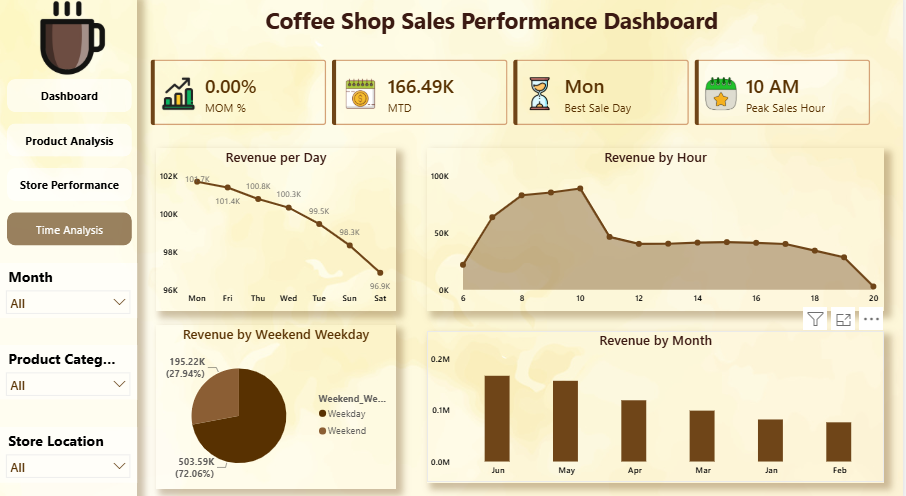

The dashboard page shown, as its layout file describes it:
{"tool":"powerbi","page":{"name":"Time Analysis","canvas":[1280,720],"ordinal":3},"visuals":[{"type":"cardVisual","fields":{"Data":["Date Table.MOM %","Date Table.MTD","Date Table.Best Sale Day","Date Table.Peak Sales Hour"]},"box":[209.8,87.9,1033.2,103.5],"z":0},{"type":"image","box":[22.7,0,148.8,121.9],"z":1000},{"type":"textbox","box":[372.8,9.9,680.3,68],"z":2000},{"type":"shape","box":[0,0,195.6,720],"z":3000},{"type":"pieChart","title":"Revenue by Weekend Weekday","fields":{"Y":["Transactions.Total_Revenue"],"Category":["Date Table.Weekend_Weekday"]},"box":[222.5,469.1,340.2,232.4],"z":4000},{"type":"lineChart","title":" Revenue per Day ","fields":{"Category":["Date Table.Day_Name"],"Y":["Transactions.Total_Revenue"]},"box":[222.5,218.3,340.2,231],"z":5000},{"type":"slicer","fields":{"Values":["ProductTable.product_category"]},"box":[0,497.5,195.6,76.5],"z":6000},{"type":"slicer","fields":{"Values":["Date Table.Month_Name"]},"box":[0,381.3,195.6,78],"z":7000},{"type":"slicer","fields":{"Values":["Storetable.store_location"]},"box":[0,613.7,195.6,79.4],"z":8000},{"type":"areaChart","title":" Revenue by Hour","fields":{"Category":["Transactions.Hour1"],"Y":["Transactions.Total_Revenue"]},"box":[606.6,218.3,647.7,231],"z":9000},{"type":"ribbonChart","title":" Revenue by Month","fields":{"Y":["Transactions.Total_Revenue"],"Category":["Date Table.Month_Name"]},"box":[606.4,477.1,648.4,215],"z":10000},{"type":"pageNavigator","box":[11.3,120.5,177.2,239.5],"z":11000}]}

Visuals, with their boxes on the page's 1280x720 design canvas (x1, y1, x2, y2). These are canvas units, not pixel positions in the 906x496 screenshot, which may show the page scaled, cropped or inside an application window:
cardVisual - Date Table.MOM % x Date Table.MTD: [210,88,1243,191]
image: [23,0,172,122]
textbox: [373,10,1053,78]
shape: [0,0,196,720]
"Revenue by Weekend Weekday" pieChart: [222,469,563,702]
" Revenue per Day " lineChart: [222,218,563,449]
slicer - ProductTable.product_category: [0,498,196,574]
slicer - Date Table.Month_Name: [0,381,196,459]
slicer - Storetable.store_location: [0,614,196,693]
" Revenue by Hour" areaChart: [607,218,1254,449]
" Revenue by Month" ribbonChart: [606,477,1255,692]
pageNavigator: [11,120,188,360]
